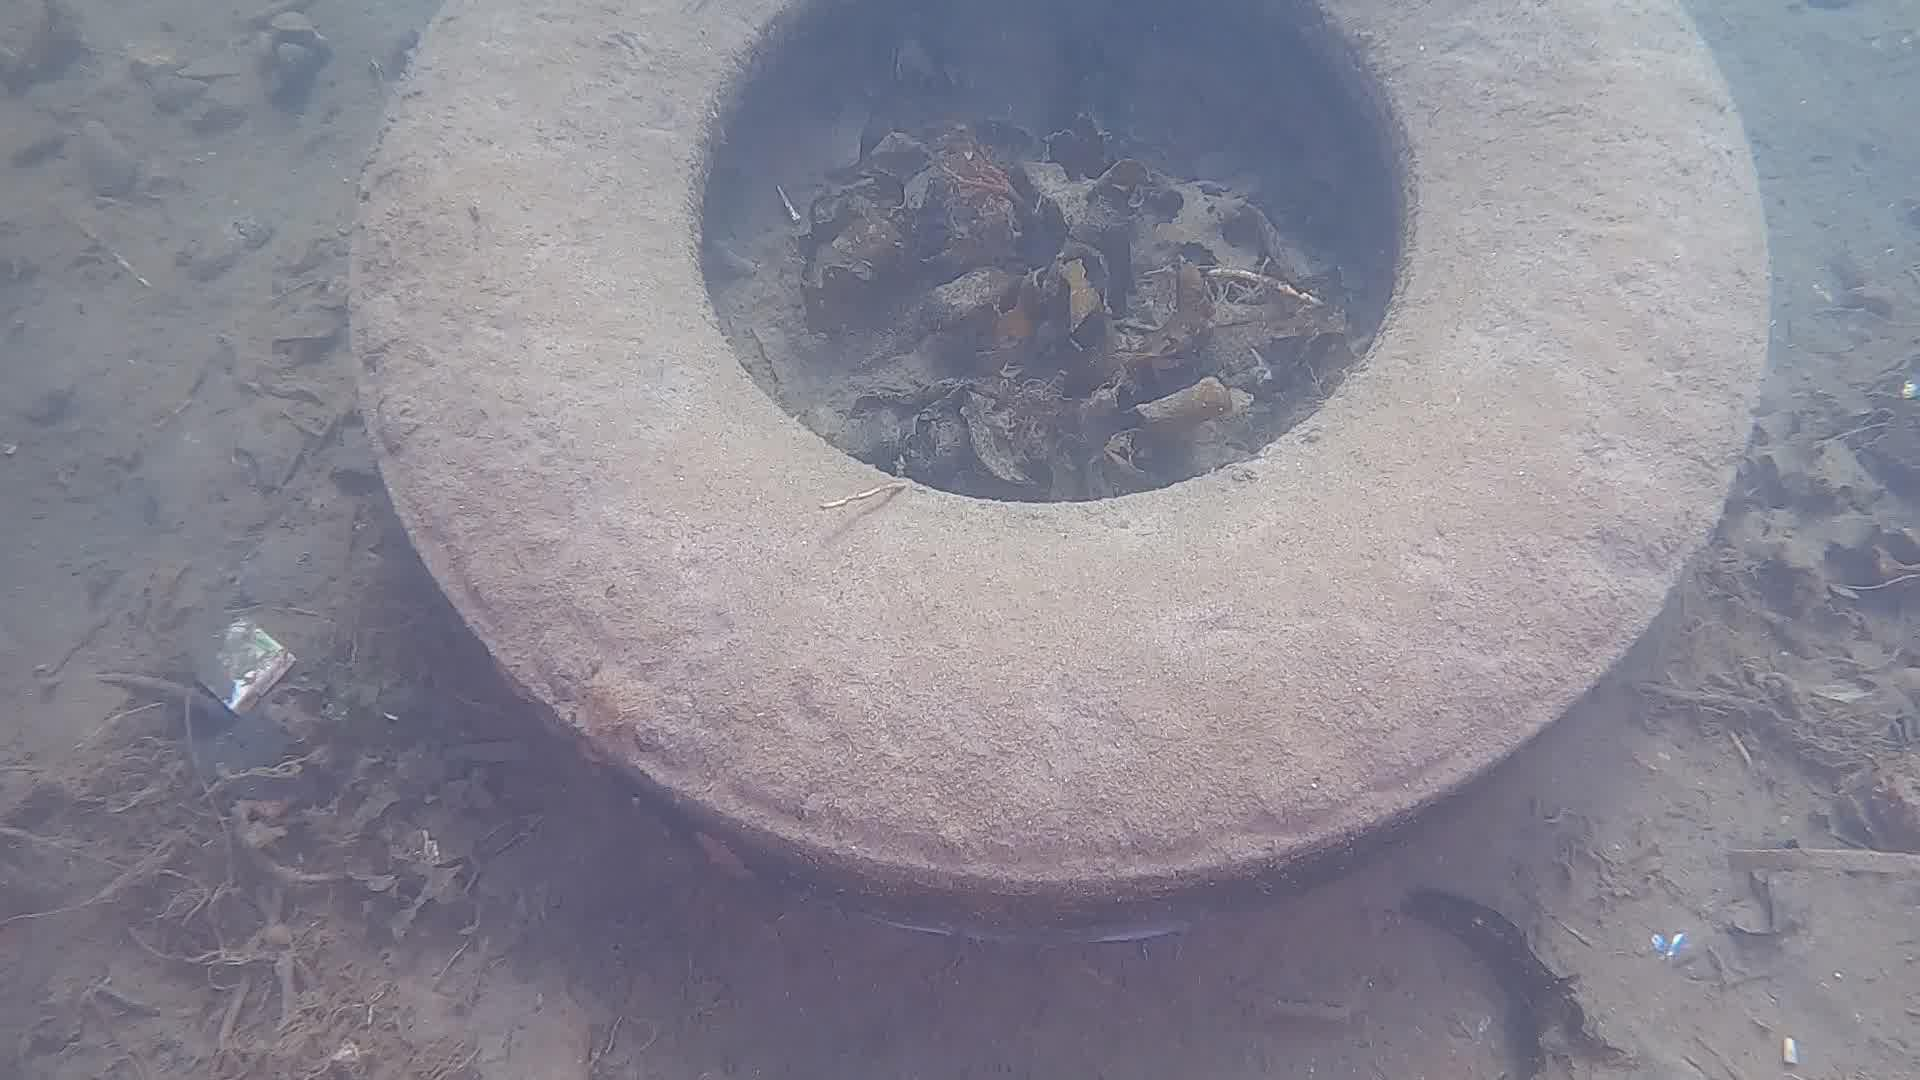tire: (344, 0, 1778, 910)
